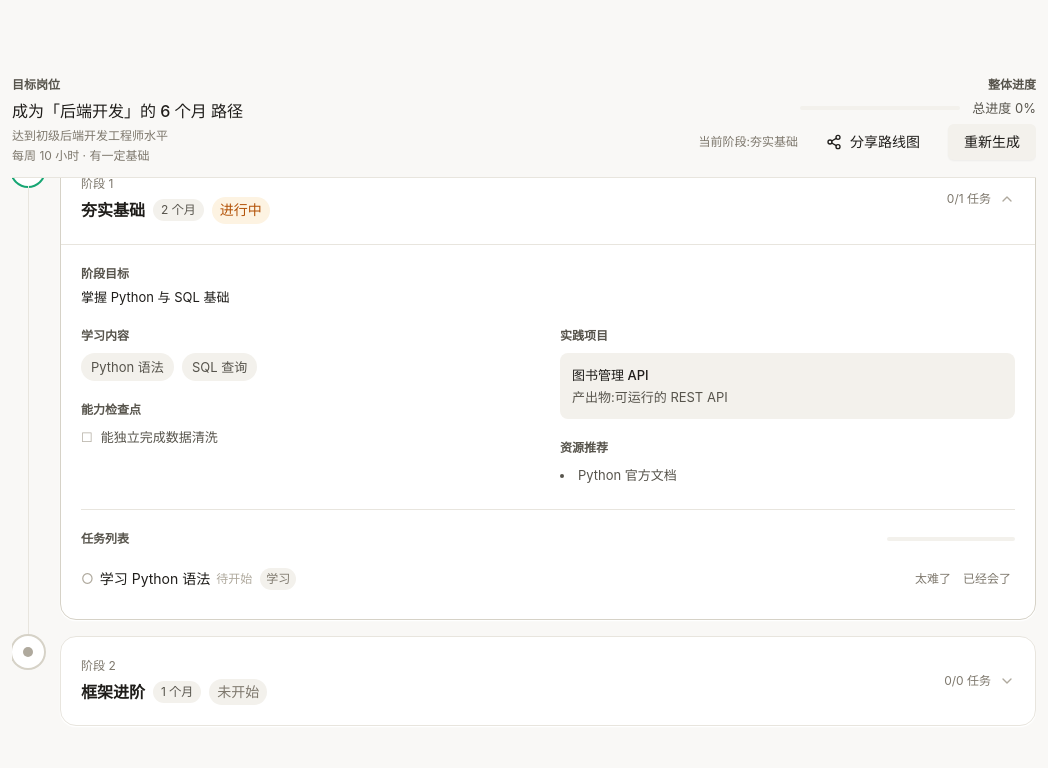
NavigatorHub 状态机 › 任务反馈失败(3.5):错误 toast,不刷新路线图
What coordinates should you click on to do the following:
click the button "太难了"
I would click on:
 (933, 579)
Its box is [911,569,955,589].
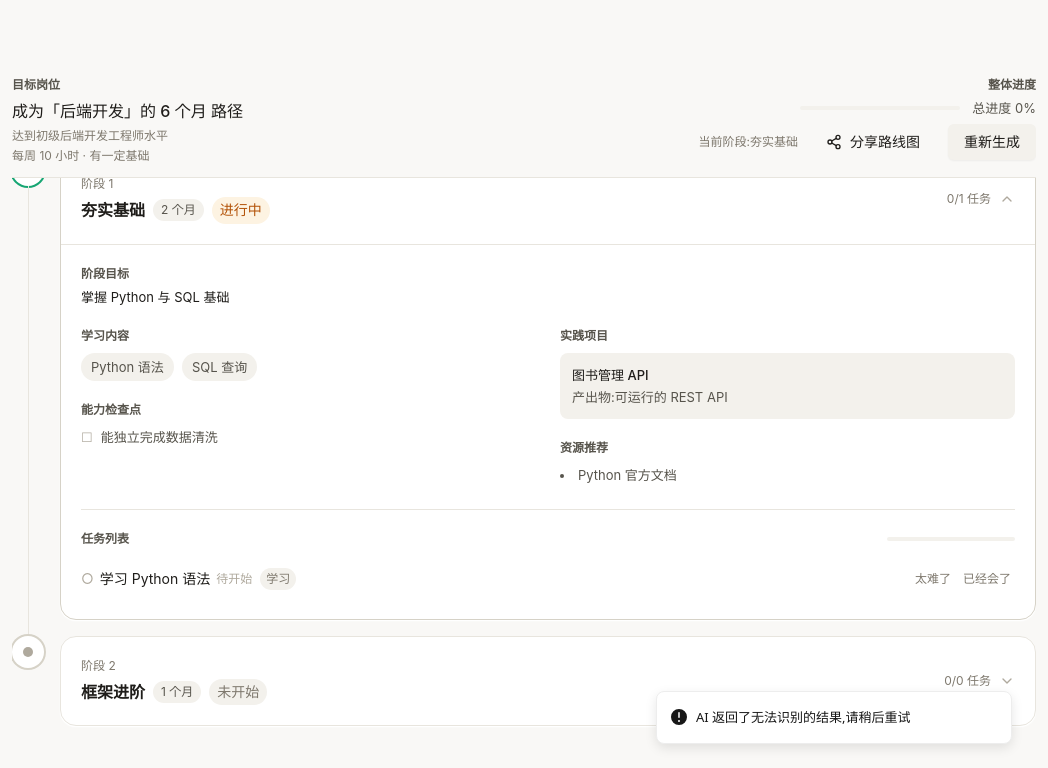
Result: the text "AI 返回了无法识别的结果,请稍后重试" is shown at [696,708,911,727]
